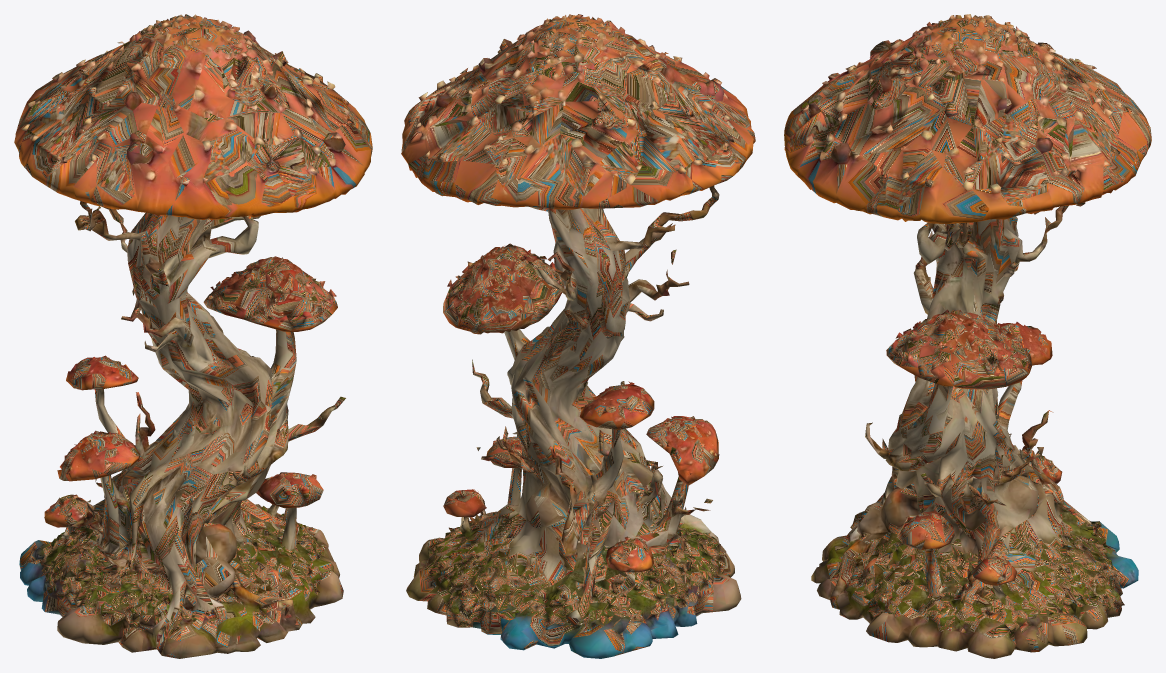
File: High_detail_fantasy_.glb
3 renders of one model, left to right at view 1: azimuth 30°, elevation 25°; view 2: azimuth 150°, elevation 25°; view 3: azimuth 270°, elevation 25°, orthographic.
Parts seen in each view (by area): view 1: High_detail_fantasy_; view 2: High_detail_fantasy_; view 3: High_detail_fantasy_.
Part boxes in pixels (<box>): High_detail_fantasy_: <box>14,14,372,658</box>; High_detail_fantasy_: <box>401,14,755,658</box>; High_detail_fantasy_: <box>784,14,1151,658</box>.
Size of the model in its own units: 1.1 by 1.9 by 1.12.
Materials: 1 (1 with a texture image).
